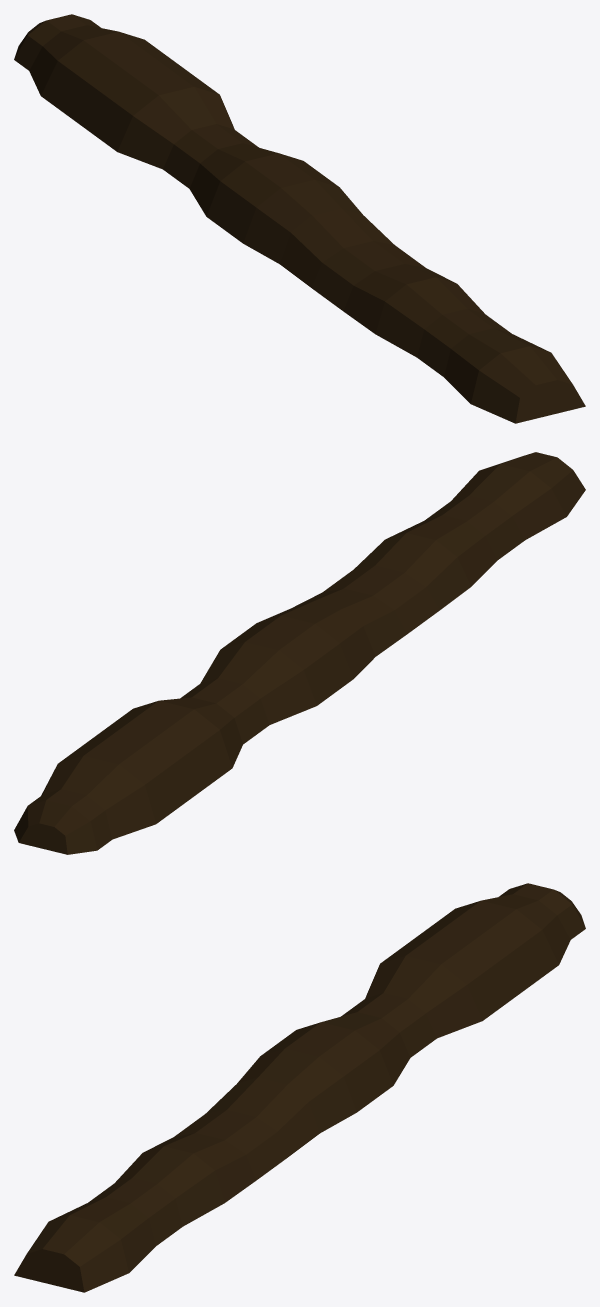
The model's file is FarmLine.fbx.
The picture shows the model from 3 angles, top to bottom: view 1: azimuth 30°, elevation 25°; view 2: azimuth 150°, elevation 25°; view 3: azimuth 330°, elevation 25°; orthographic projection.
Parts seen in each view (by area): view 1: Cube; view 2: Cube; view 3: Cube.
Part boxes in pixels (x1,y1,x2,y2): Cube: (14, 14, 585, 423); Cube: (14, 452, 585, 854); Cube: (14, 883, 585, 1292).
Size of the model in its own units: 264 by 113 by 2014.
